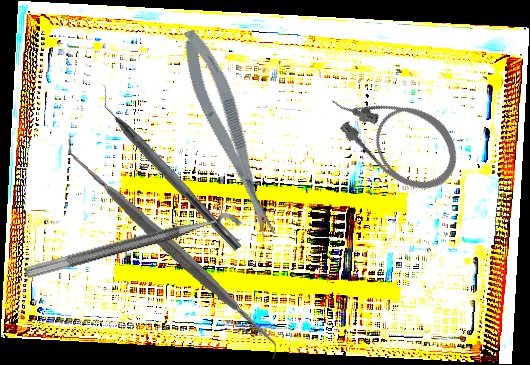Cannula: (316, 62, 474, 206)
Chopper: (87, 82, 254, 253)
Fixation Ring: (23, 208, 248, 297)
Micro Scissor: (173, 24, 283, 244)
Spatula Surgical: (57, 134, 287, 360)
